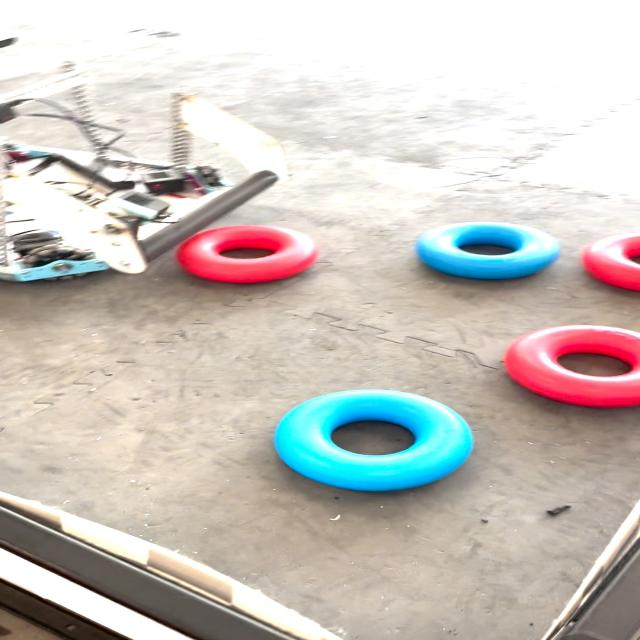Blue-Ring: (276, 390, 473, 491), (416, 222, 560, 279)
Red-Ring: (504, 325, 640, 408), (176, 225, 318, 282), (580, 232, 640, 291)
